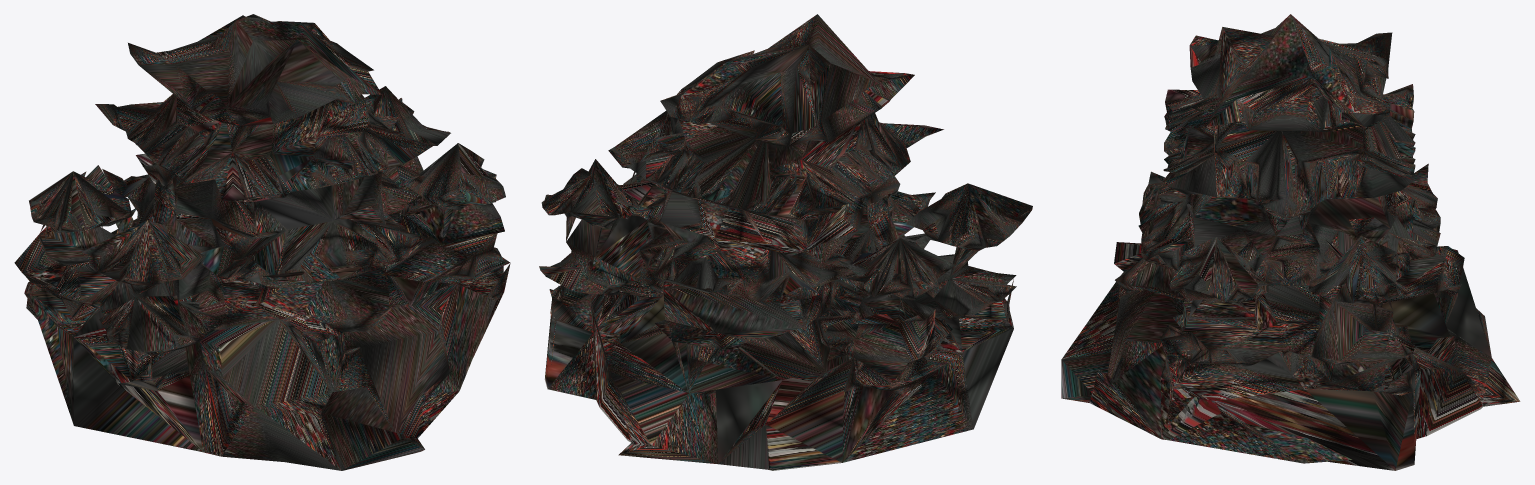
The model's file is Majestic_Pagoda_Palac.glb.
The picture shows the model from 3 angles, left to right: view 1: azimuth 30°, elevation 25°; view 2: azimuth 150°, elevation 25°; view 3: azimuth 270°, elevation 25°; orthographic projection. The views are drawn at different scales.
Visible parts, largest first — view 1: Majestic_Pagoda_Palac; view 2: Majestic_Pagoda_Palac; view 3: Majestic_Pagoda_Palac.
Boxes of the visible parts, box(x1,y1,x2,y2) form: Majestic_Pagoda_Palac: box(14, 14, 510, 470); Majestic_Pagoda_Palac: box(539, 14, 1032, 470); Majestic_Pagoda_Palac: box(1061, 14, 1520, 470).
Size of the model in its own units: 1.85 by 1.59 by 1.88.
Materials: 1 (1 with a texture image).
